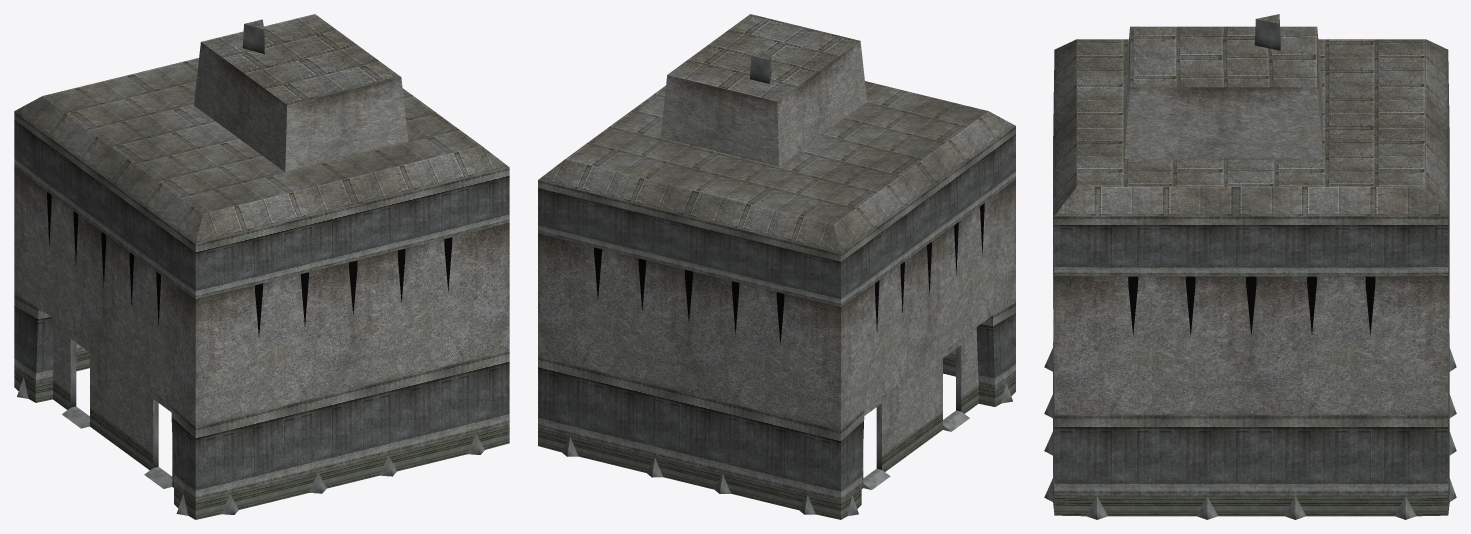
The model's file is thm_corl_imprv_slum_16x16_s01_r0_mesh_l2.fbx.
3 views of the same model, side by side, from view 1: azimuth 30°, elevation 25°; view 2: azimuth 150°, elevation 25°; view 3: azimuth 270°, elevation 25° (orthographic). The views are drawn at different scales.
Parts seen in each view (by area): view 1: mesh_node; view 2: mesh_node; view 3: mesh_node.
Part boxes in pixels (<box>): mesh_node: <box>14,14,509,519</box>; mesh_node: <box>538,14,1015,519</box>; mesh_node: <box>1044,14,1456,519</box>.
Size of the model in its own units: 15.04 by 16.66 by 14.98.
